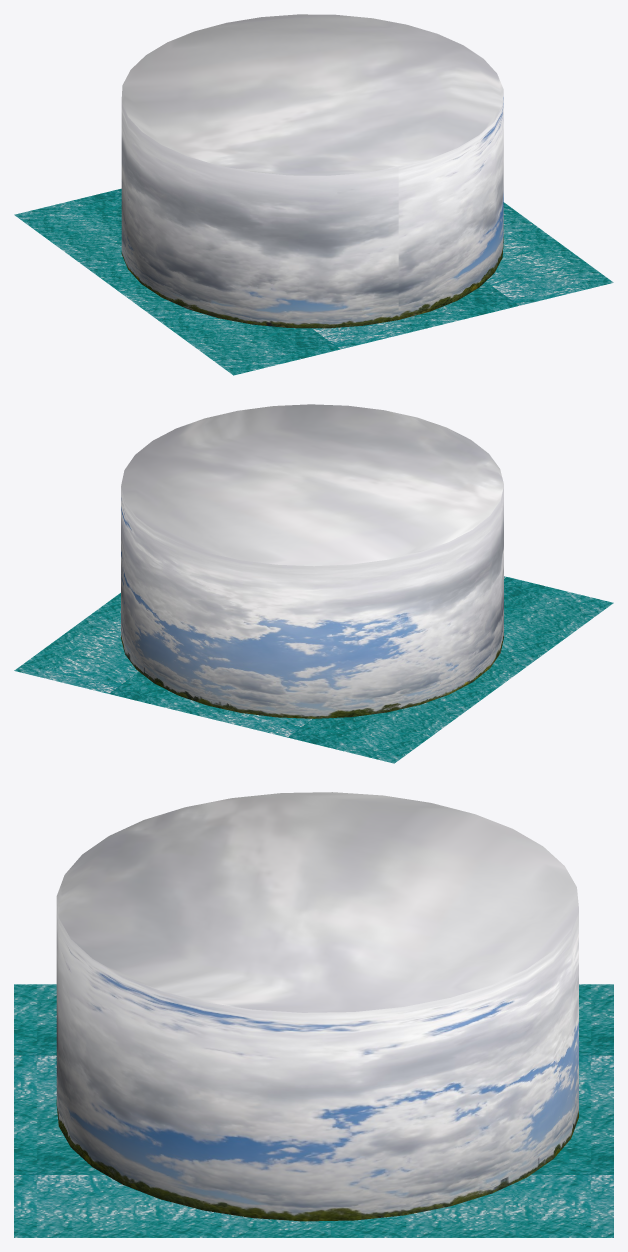
The model's file is ship.glb.
The picture shows the model from 3 angles, top to bottom: view 1: azimuth 30°, elevation 25°; view 2: azimuth 150°, elevation 25°; view 3: azimuth 270°, elevation 25°; orthographic projection. The views are drawn at different scales.
Parts seen in each view (by area): view 1: lightbox, sea; view 2: lightbox, sea; view 3: lightbox, sea.
Part boxes in pixels (<box>): lightbox: <box>121,14,503,328</box>; sea: <box>14,188,613,375</box>; lightbox: <box>121,404,503,718</box>; sea: <box>14,576,613,763</box>; lightbox: <box>56,792,578,1221</box>; sea: <box>14,984,613,1237</box>.
Size of the model in its own units: 394 by 155 by 394.
13 materials, 2 textured.
